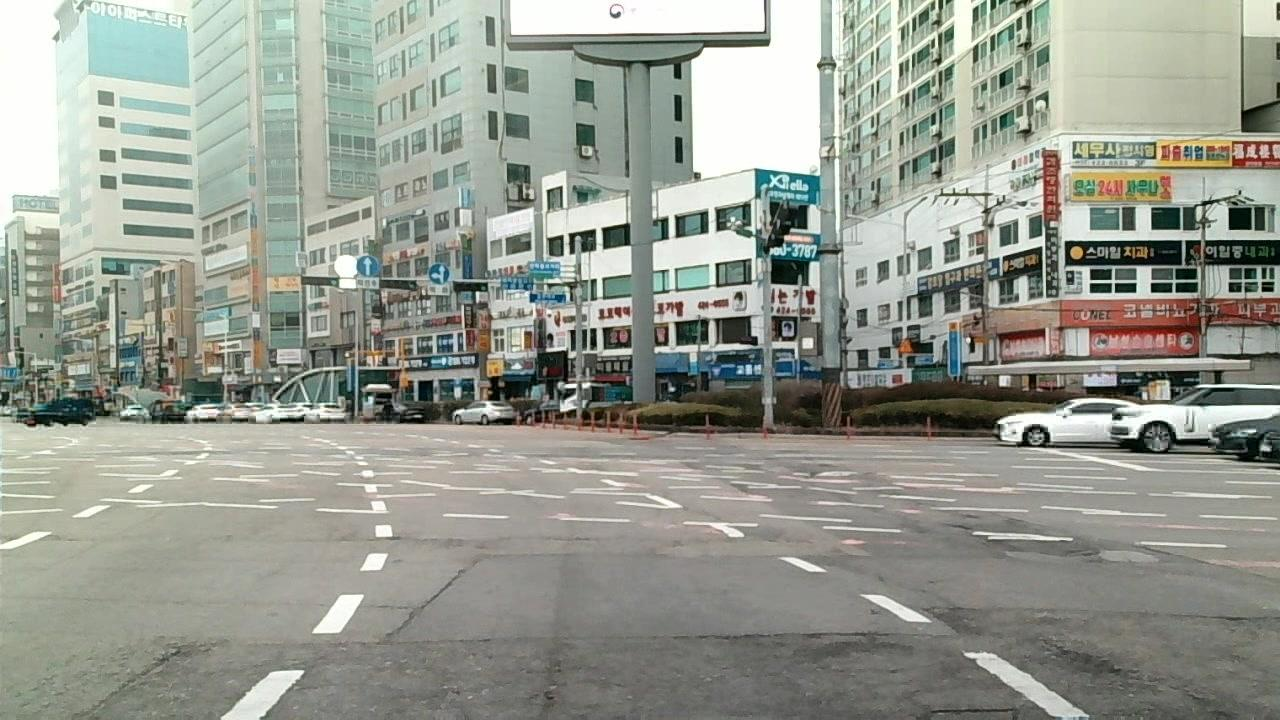erosion: (57, 627, 957, 720), (954, 591, 1280, 720)
hcrack: (302, 531, 463, 543), (477, 550, 661, 559), (690, 550, 863, 559), (494, 533, 599, 543), (40, 593, 169, 601), (34, 534, 108, 544)
pothole: (1004, 543, 1088, 563)
vcrack: (383, 558, 475, 632), (1204, 560, 1280, 585), (1123, 541, 1196, 563), (948, 522, 975, 531)
